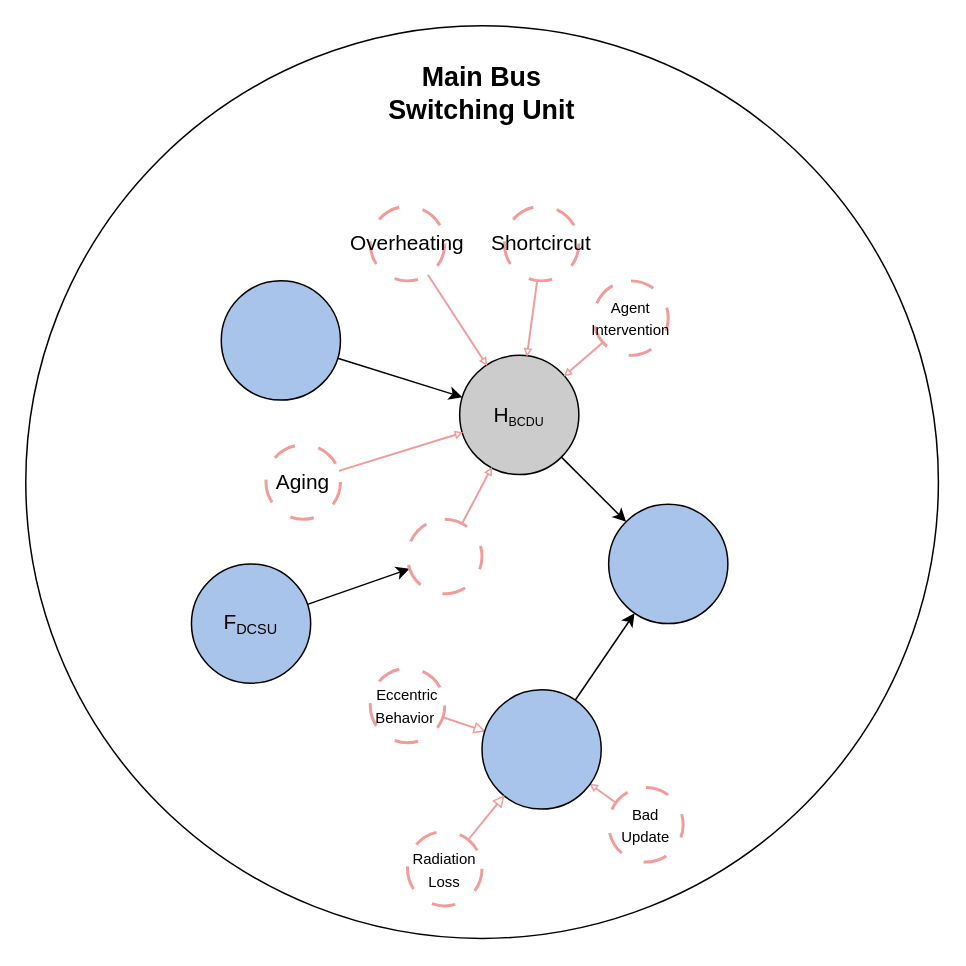
The diagram is 966 pixels wide and 966 high, and some of its shapes have lost their labels. The centre of each missing label's shape, as x and y in pixels:
"F MBSU" belongs at (x=667, y=563).
"F software" belongs at (x=541, y=748).
"F switch" belongs at (x=280, y=339).
"Under Charging" belongs at (x=444, y=556).
